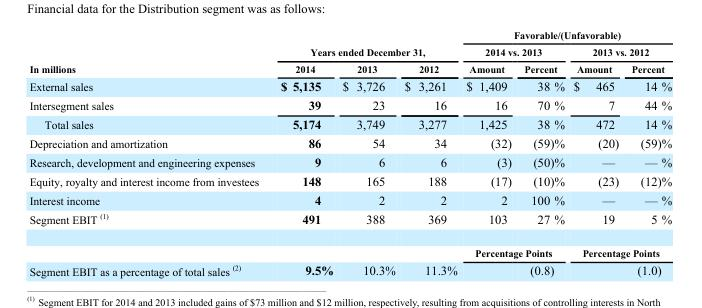table: (28, 28, 671, 277)
table column: (28, 28, 269, 277), (269, 28, 337, 277), (337, 28, 399, 277), (399, 28, 461, 277), (461, 28, 517, 277), (568, 28, 624, 277), (517, 28, 568, 277), (624, 28, 671, 277)
table column header: (28, 28, 671, 76)
table row: (28, 208, 671, 236), (28, 236, 671, 260), (28, 76, 671, 95), (28, 95, 671, 114), (28, 114, 671, 133), (28, 133, 671, 152), (28, 152, 671, 171), (28, 171, 671, 190), (28, 190, 671, 208), (28, 43, 671, 60), (28, 260, 671, 277), (28, 60, 671, 76), (28, 28, 671, 43)
table spanning cell: (28, 28, 269, 76), (269, 28, 461, 60), (461, 28, 671, 43), (461, 236, 568, 260), (568, 236, 671, 260), (461, 43, 568, 60), (568, 43, 671, 60)
